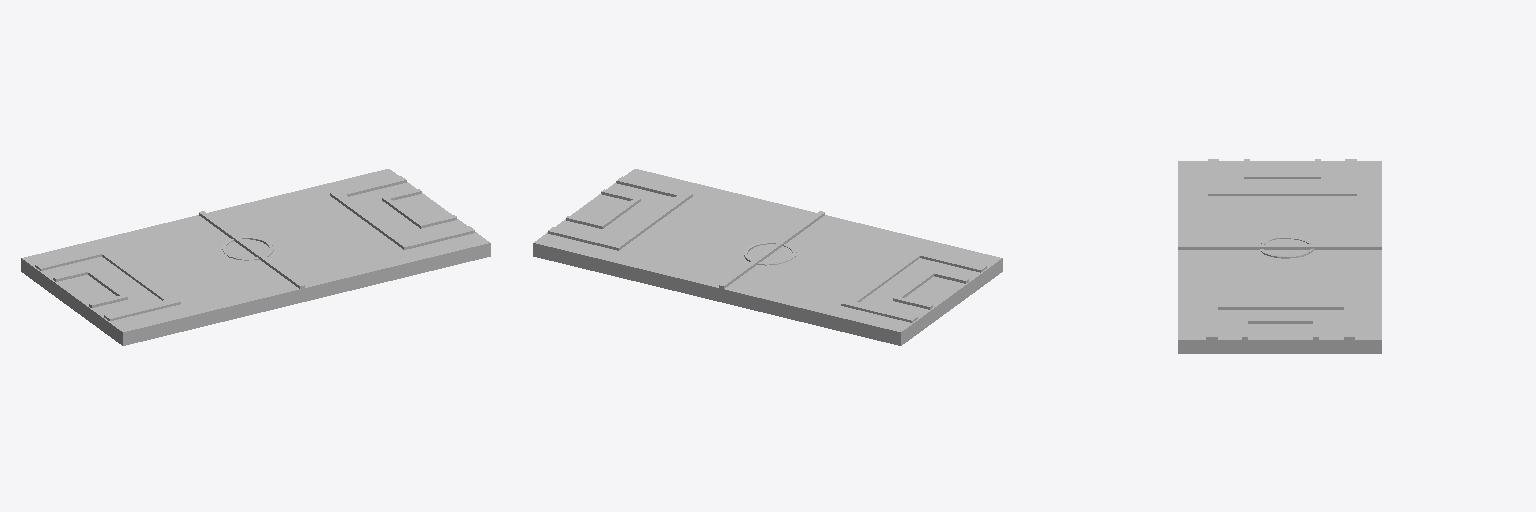
Rendered from field.obj.
3 views of the same model, side by side, from view 1: azimuth 30°, elevation 25°; view 2: azimuth 150°, elevation 25°; view 3: azimuth 270°, elevation 25° (orthographic).
Size of the model in its own units: 1.4 by 0.06 by 0.67.